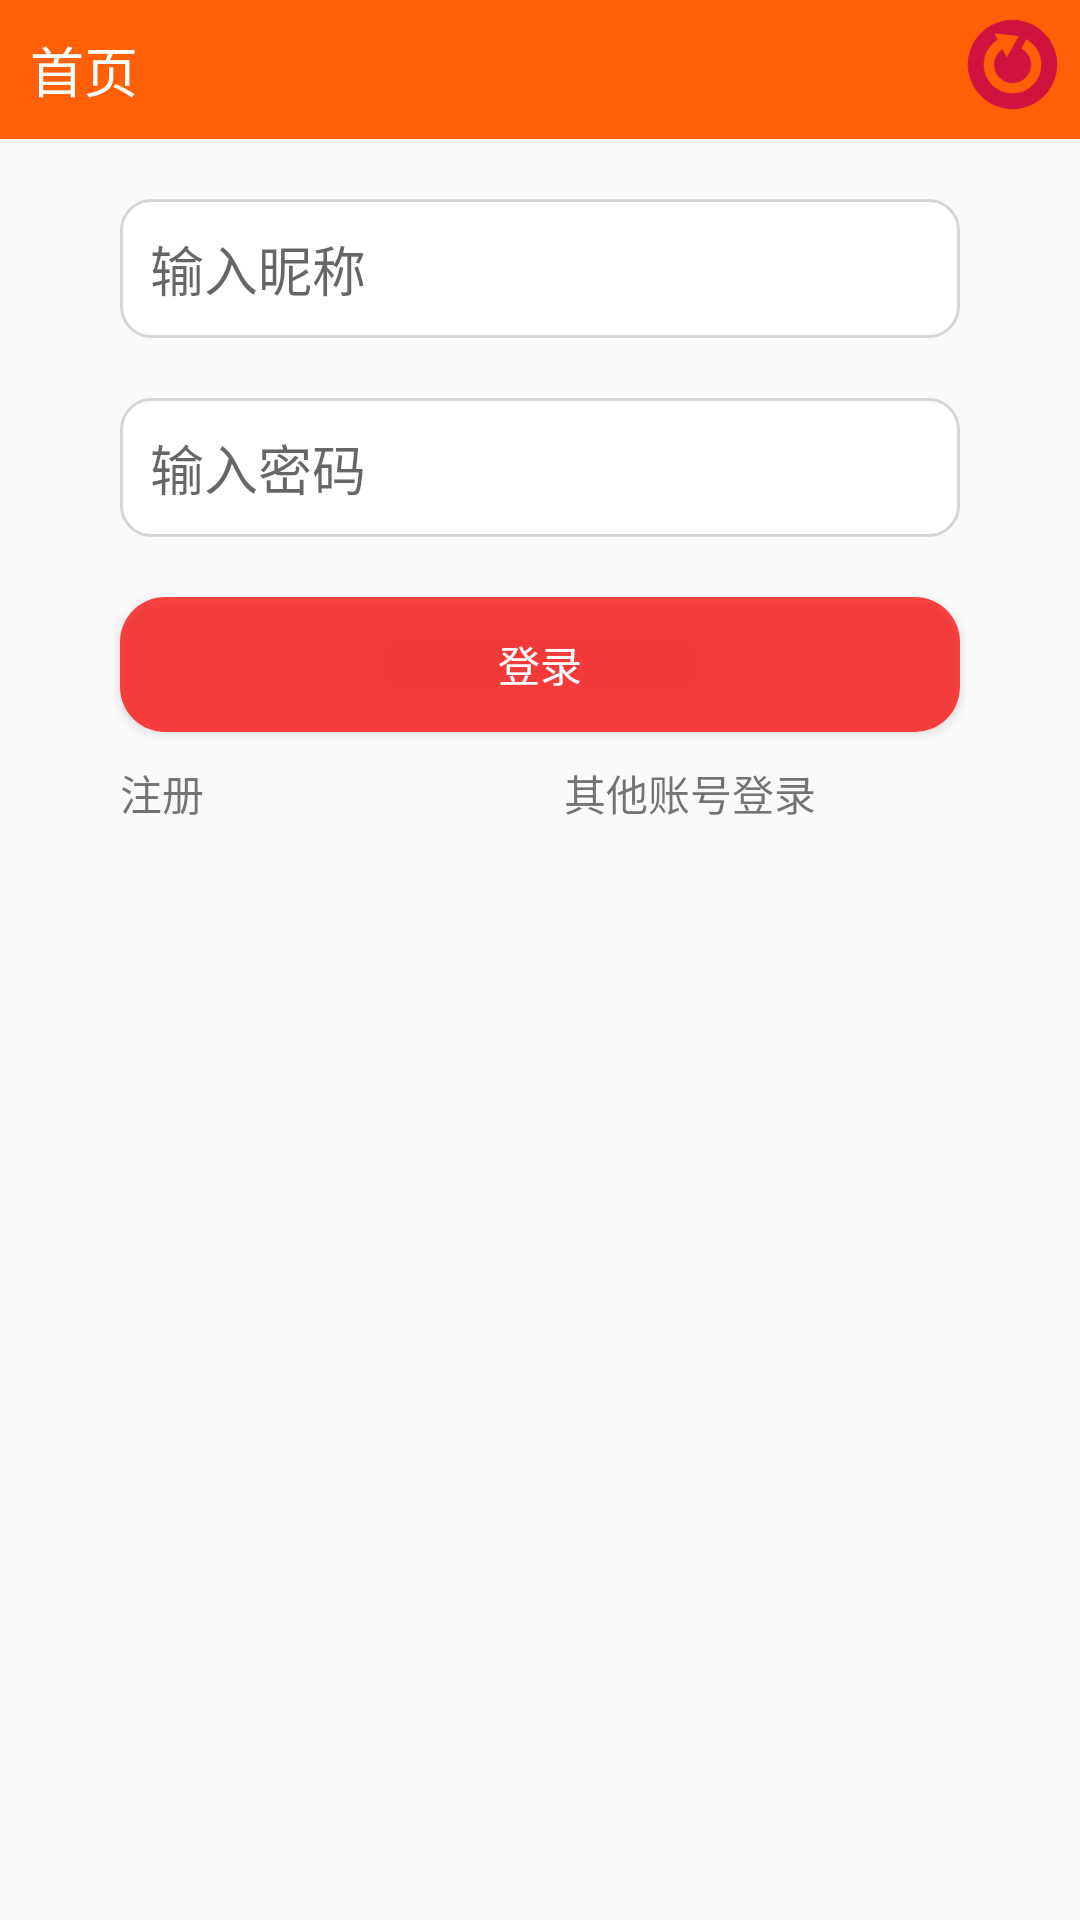

Screen size 1080px x 1920px. Icon name, then its center in pixels as point (x, y):
refresh: point (1012, 64)
